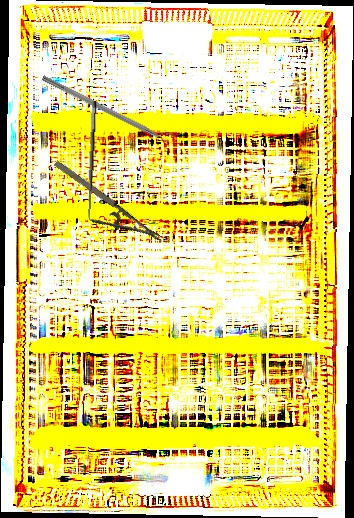Hook Surgical: (40, 74, 183, 152), (83, 100, 107, 222)
Needle Holder: (40, 157, 165, 263)
